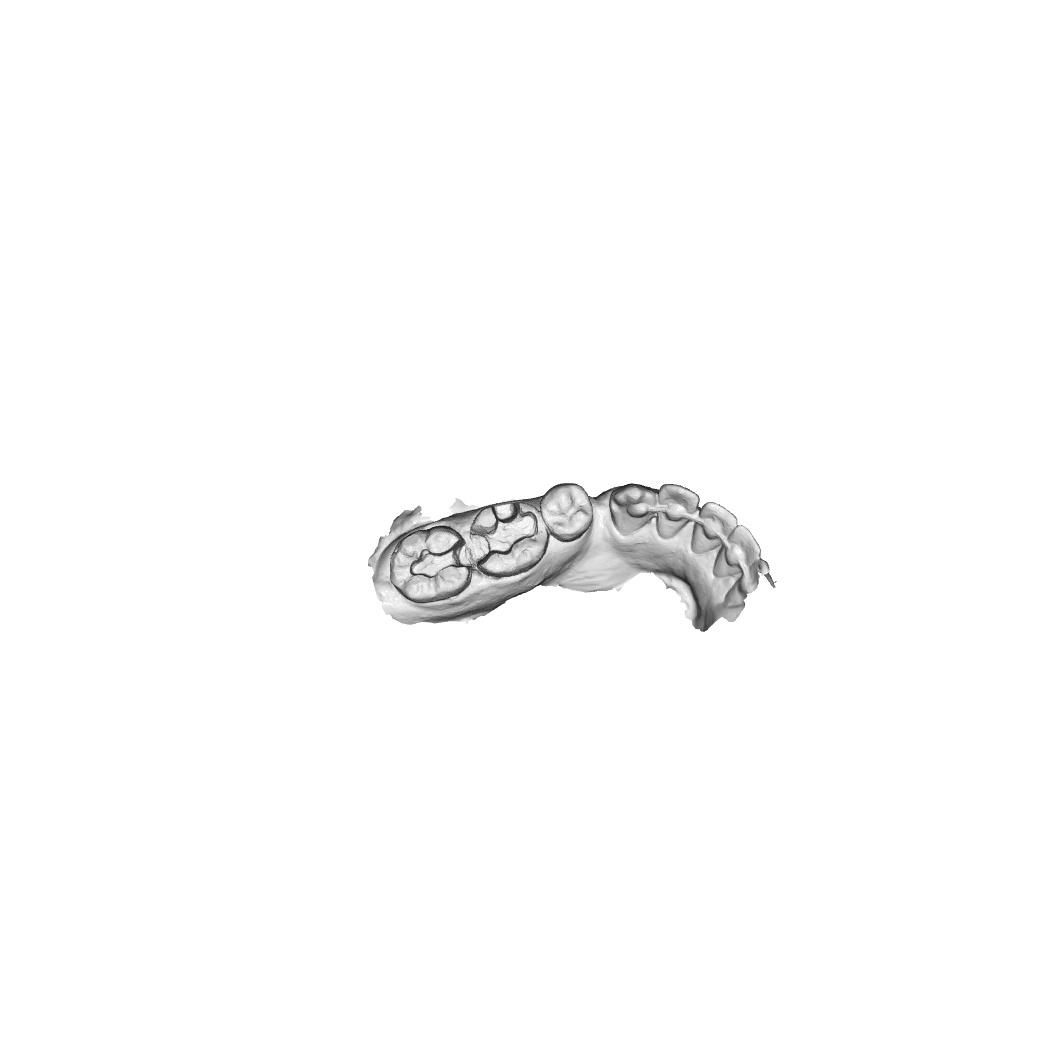canine: (609, 483, 656, 537)
incisor: (712, 524, 762, 579), (690, 501, 739, 555), (657, 483, 701, 540)
inlay: (470, 502, 537, 568), (409, 537, 471, 581)
premolar: (540, 482, 594, 543)
